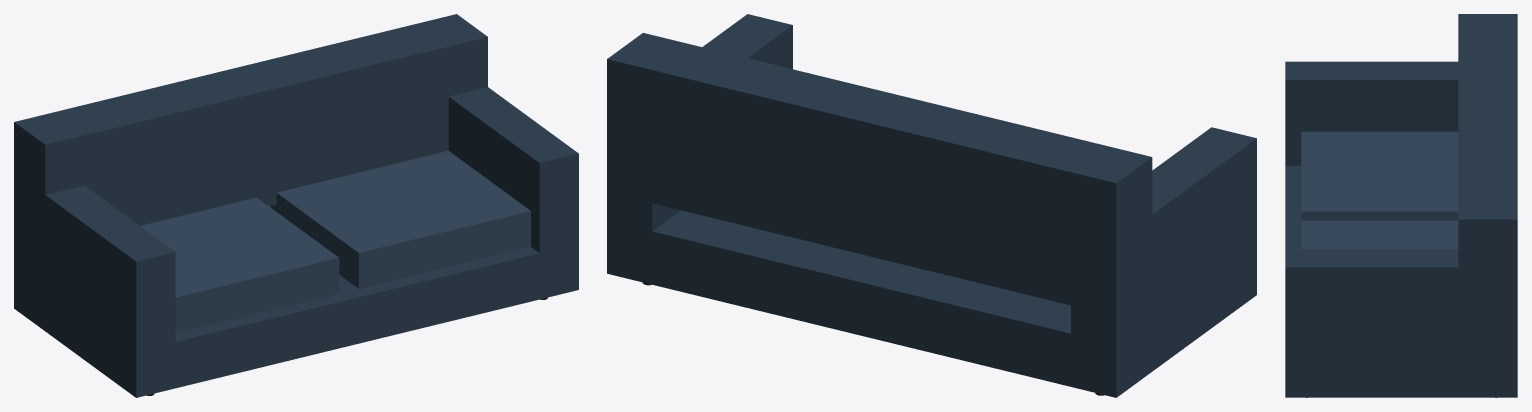
Rendered from sofa_double.glb.
3 renders of one model, left to right at view 1: azimuth 30°, elevation 25°; view 2: azimuth 150°, elevation 25°; view 3: azimuth 270°, elevation 25°, orthographic. The views are drawn at different scales.
Visible parts, largest first — view 1: Sofa; view 2: Sofa; view 3: Sofa.
Boxes of the visible parts, x1,y1,x2,y2 form: Sofa: (14,14,578,397); Sofa: (607,14,1256,397); Sofa: (1285,14,1517,397).
Size of the model in its own units: 1.8 by 0.765 by 0.86.
